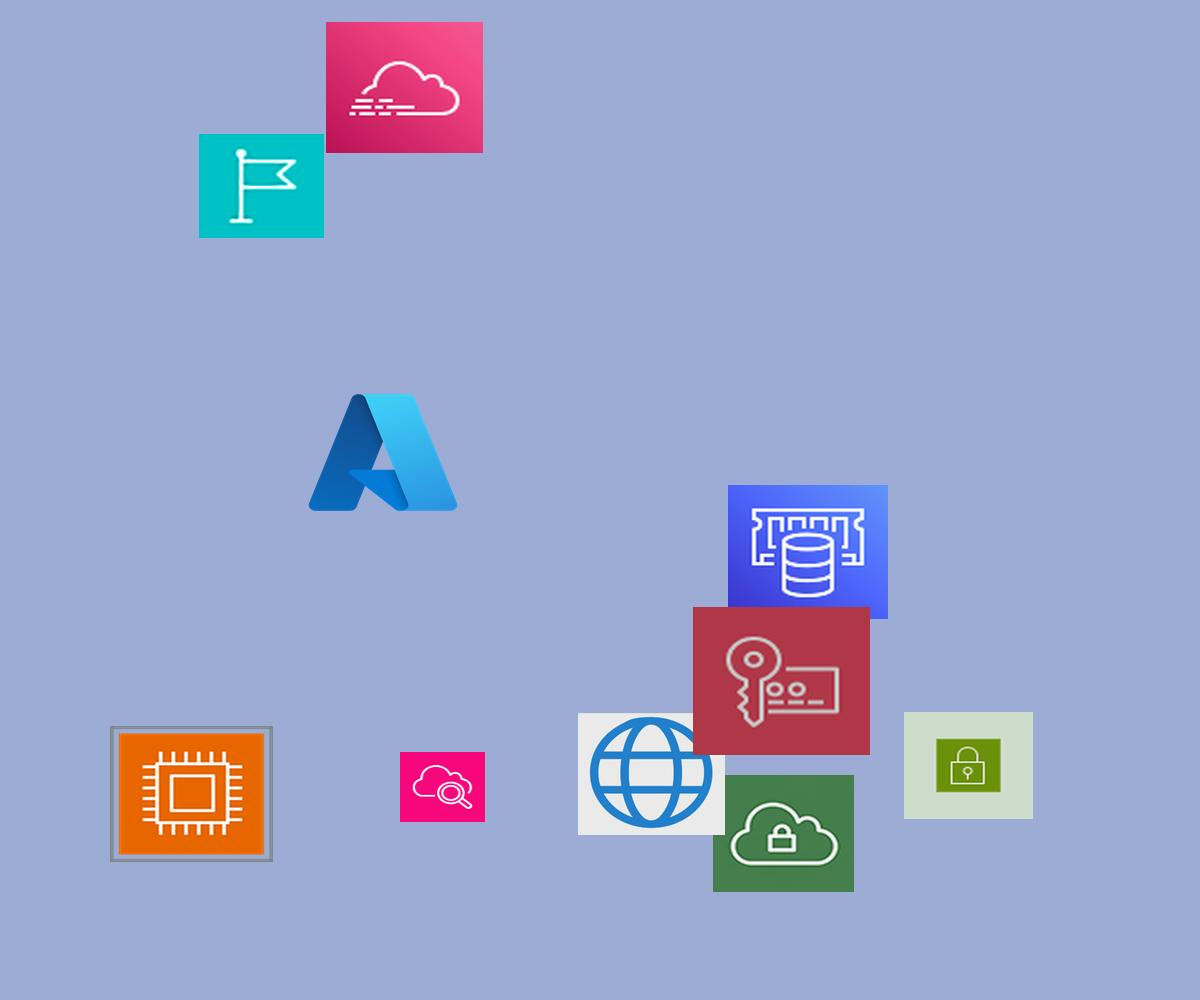AWS-Category_Compute: (110, 726, 273, 862)
AWS-CloudTrail: (326, 22, 483, 153)
AWS-CloudWatch: (400, 752, 485, 822)
AWS-ElastiCache: (728, 485, 888, 619)
AWS-Key-Management-Service: (693, 607, 870, 755)
AWS-Private_vpc: (713, 775, 854, 892)
AWS-Public-subnet: (904, 712, 1033, 819)
AWS-Region: (199, 134, 324, 238)
Azure_http: (578, 713, 725, 835)
Azure_services: (302, 385, 464, 520)
